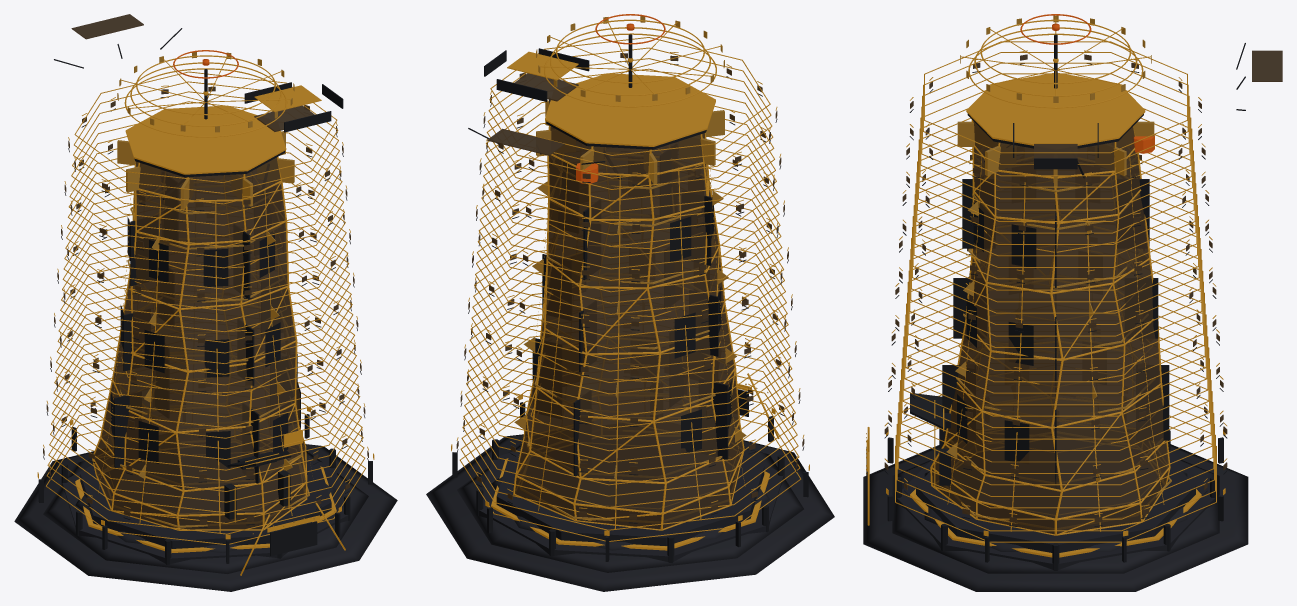
File: finance-ext-v2-draft-s72.glb
3 renders of one model, left to right at view 1: azimuth 30°, elevation 25°; view 2: azimuth 150°, elevation 25°; view 3: azimuth 270°, elevation 25°, orthographic. The views are drawn at different scales.
Visible parts, largest first — view 1: main_body, finance_s72_emissive_polish_mesh, finance_s72_base_polish_mesh, base_platform_upper, crown_edge_ring, finance_s72_glass_polish_mesh, finance_s72_detail_polish_mesh, base_platform_lower, frame_window_c0_f4, base_step_ring, frame_window_c2_f4, frame_window_c1_f4 (+26 smaller); view 2: main_body, finance_s72_emissive_polish_mesh, finance_s72_base_polish_mesh, base_platform_upper, crown_edge_ring, finance_s72_glass_polish_mesh, base_platform_lower, finance_s72_detail_polish_mesh, frame_window_c0_f4, base_step_ring, frame_window_c0_f0, frame_window_c1_f4 (+23 smaller); view 3: main_body, finance_s72_emissive_polish_mesh, finance_s72_base_polish_mesh, base_platform_upper, crown_edge_ring, finance_s72_glass_polish_mesh, base_platform_lower, finance_s72_detail_polish_mesh, frame_window_c0_f2, frame_window_c2_f2, frame_window_c1_f2, frame_window_c0_f6 (+21 smaller).
Boxes of the visible parts, left/top/right/bottom form: main_body: left=94, top=157, right=305, bottom=529; finance_s72_emissive_polish_mesh: left=37, top=53, right=374, bottom=575; finance_s72_base_polish_mesh: left=14, top=444, right=397, bottom=591; base_platform_upper: left=80, top=443, right=331, bottom=548; crown_edge_ring: left=125, top=105, right=286, bottom=174; finance_s72_glass_polish_mesh: left=43, top=14, right=368, bottom=524; finance_s72_detail_polish_mesh: left=38, top=28, right=372, bottom=563; base_platform_lower: left=62, top=461, right=348, bottom=563; frame_window_c0_f4: left=114, top=392, right=141, bottom=467; base_step_ring: left=75, top=466, right=336, bottom=553; frame_window_c2_f4: left=130, top=216, right=157, bottom=286; frame_window_c1_f4: left=123, top=309, right=150, bottom=371; main_body: left=515, top=126, right=743, bottom=529; finance_s72_emissive_polish_mesh: left=451, top=17, right=809, bottom=541; finance_s72_base_polish_mesh: left=426, top=434, right=834, bottom=591; base_platform_upper: left=496, top=437, right=764, bottom=545; crown_edge_ring: left=545, top=73, right=715, bottom=146; finance_s72_glass_polish_mesh: left=456, top=53, right=804, bottom=519; base_platform_lower: left=478, top=452, right=783, bottom=562; finance_s72_detail_polish_mesh: left=452, top=61, right=808, bottom=561; frame_window_c0_f4: left=699, top=379, right=728, bottom=459; base_step_ring: left=491, top=458, right=769, bottom=550; frame_window_c0_f0: left=532, top=338, right=561, bottom=418; frame_window_c1_f4: left=689, top=290, right=718, bottom=356; main_body: left=932, top=121, right=1168, bottom=534; finance_s72_emissive_polish_mesh: left=866, top=16, right=1227, bottom=542; finance_s72_base_polish_mesh: left=863, top=444, right=1248, bottom=591; base_platform_upper: left=916, top=440, right=1195, bottom=552; crown_edge_ring: left=966, top=73, right=1145, bottom=145; finance_s72_glass_polish_mesh: left=884, top=50, right=1282, bottom=522; base_platform_lower: left=896, top=450, right=1214, bottom=569; finance_s72_detail_polish_mesh: left=866, top=43, right=1245, bottom=562; frame_window_c0_f2: left=1136, top=365, right=1169, bottom=440; frame_window_c2_f2: left=1116, top=179, right=1149, bottom=247; frame_window_c1_f2: left=1125, top=278, right=1158, bottom=338; frame_window_c0_f6: left=942, top=365, right=975, bottom=440.
Size of the model in its own units: 13.2 by 18.43 by 14.37.
